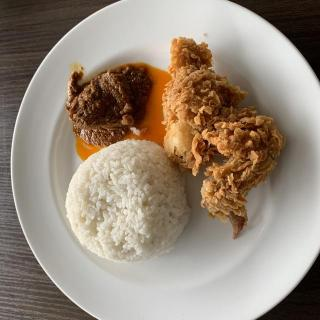Nasi: (66, 142, 192, 264)
